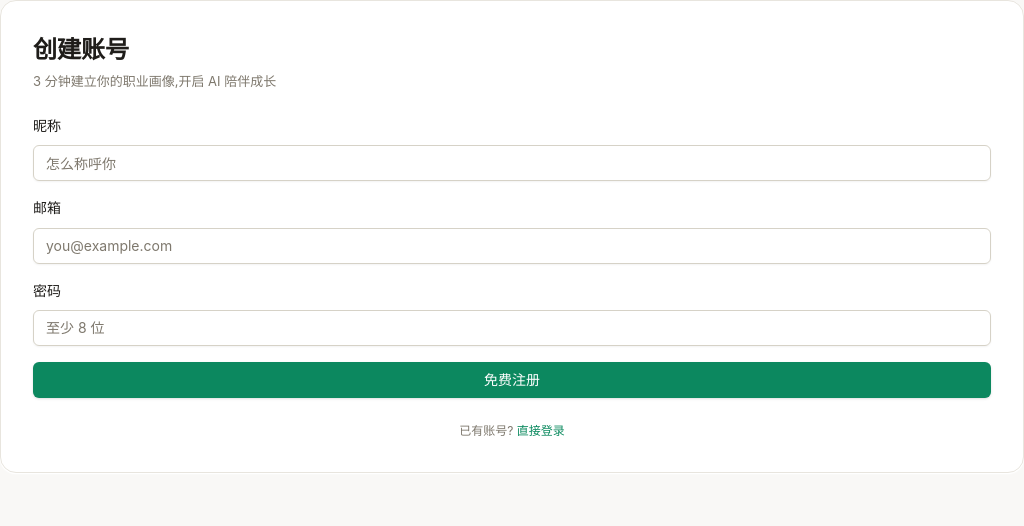
Test: RegisterForm › 注册成功但自动登录失败:提示去登录页,不跳转
In the field labelled "昵称": (512, 163) 33,145 -> 991,181, type "小明"
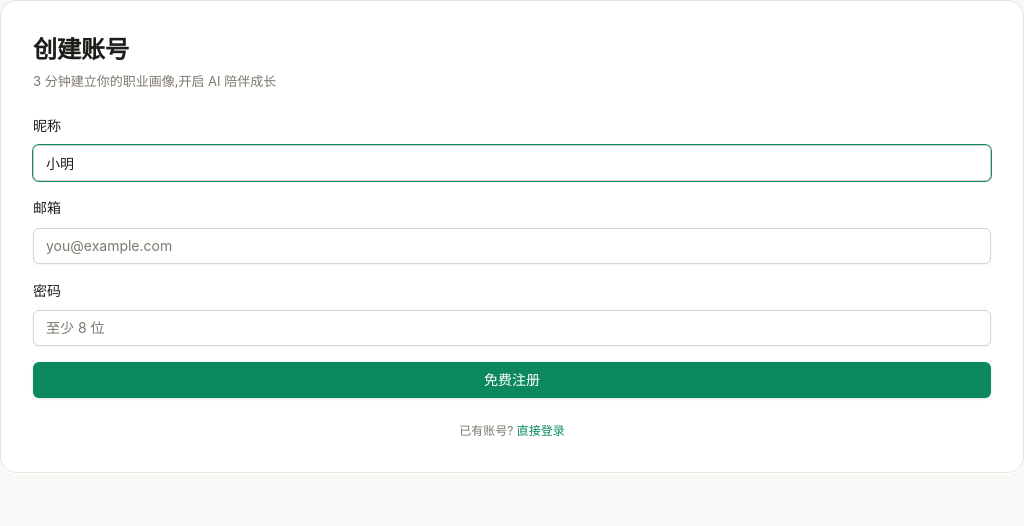
In the field labelled "邮箱": (512, 246) 33,228 -> 991,264, type "new@example.com"
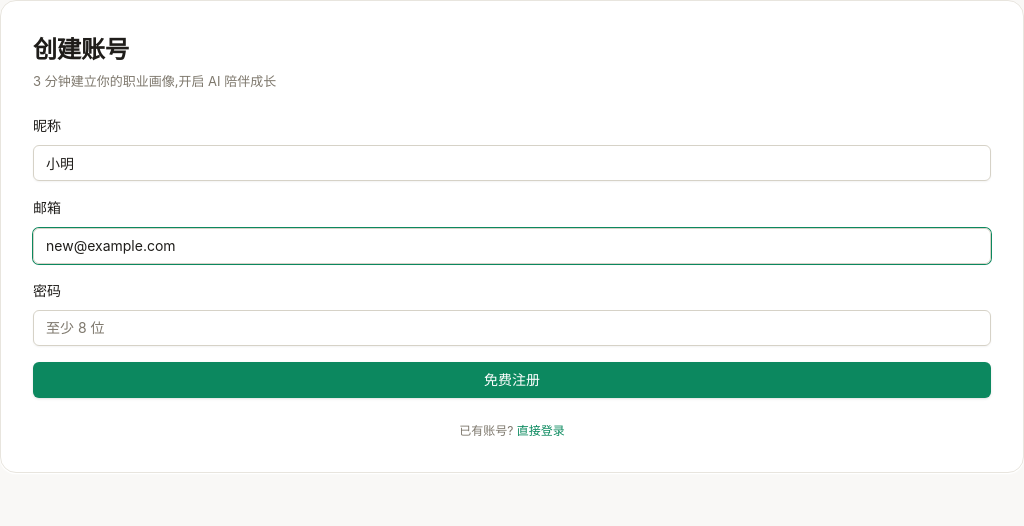
In the password field labelled "密码": (512, 328) 33,310 -> 991,346, type "password123"
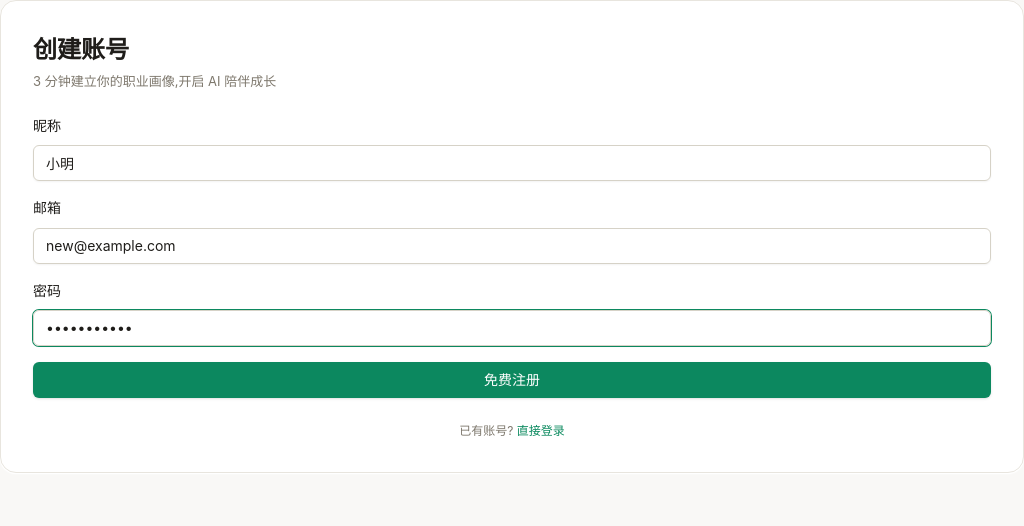
Click the button "免费注册": click(512, 380) 33,362 -> 991,398
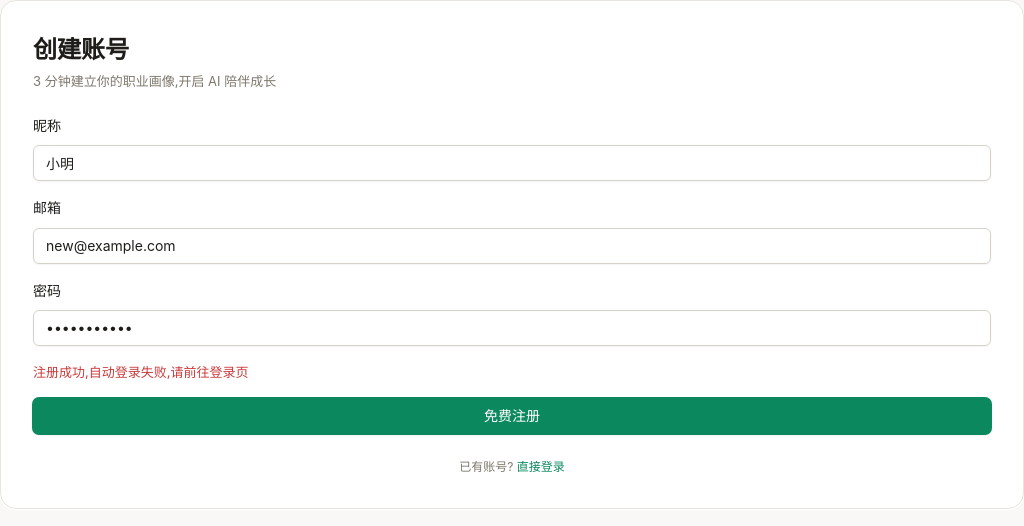
Expected: the message shows "自动登录失败", 33,364 -> 248,380
